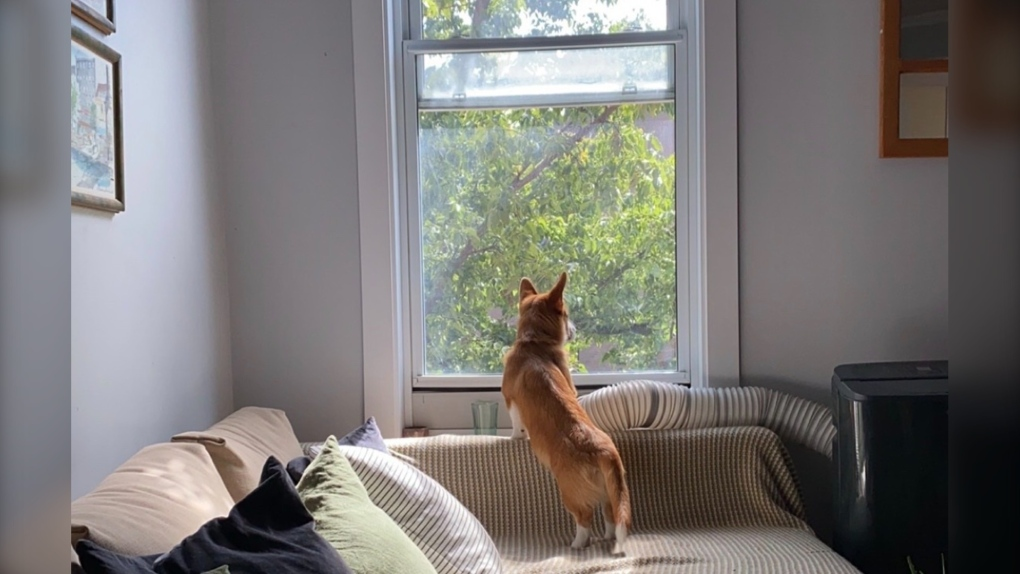pet: (508, 288, 625, 545)
